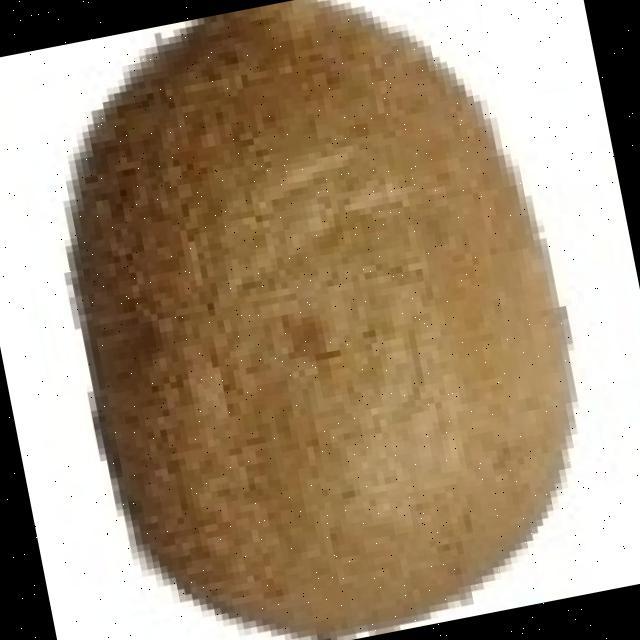kiwi: (87, 7, 581, 640)
